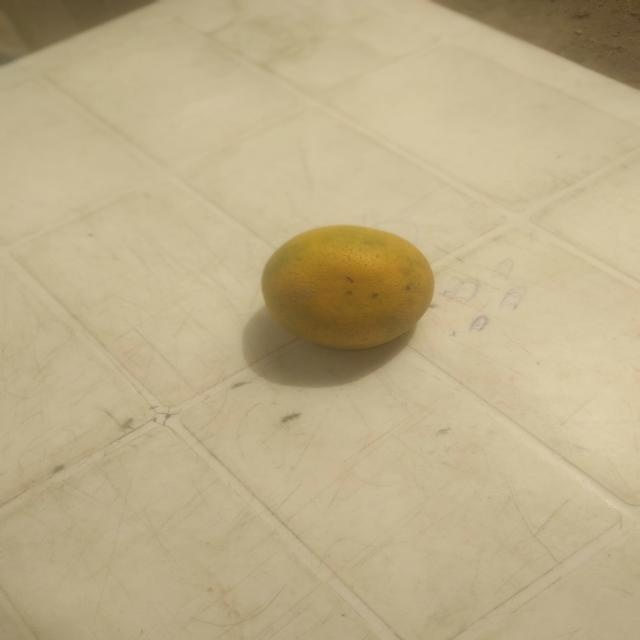agrume: (251, 217, 468, 407)
